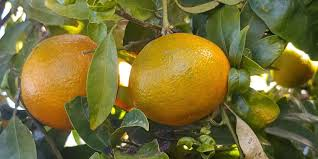orange: (125, 31, 235, 126), (19, 33, 108, 130)
